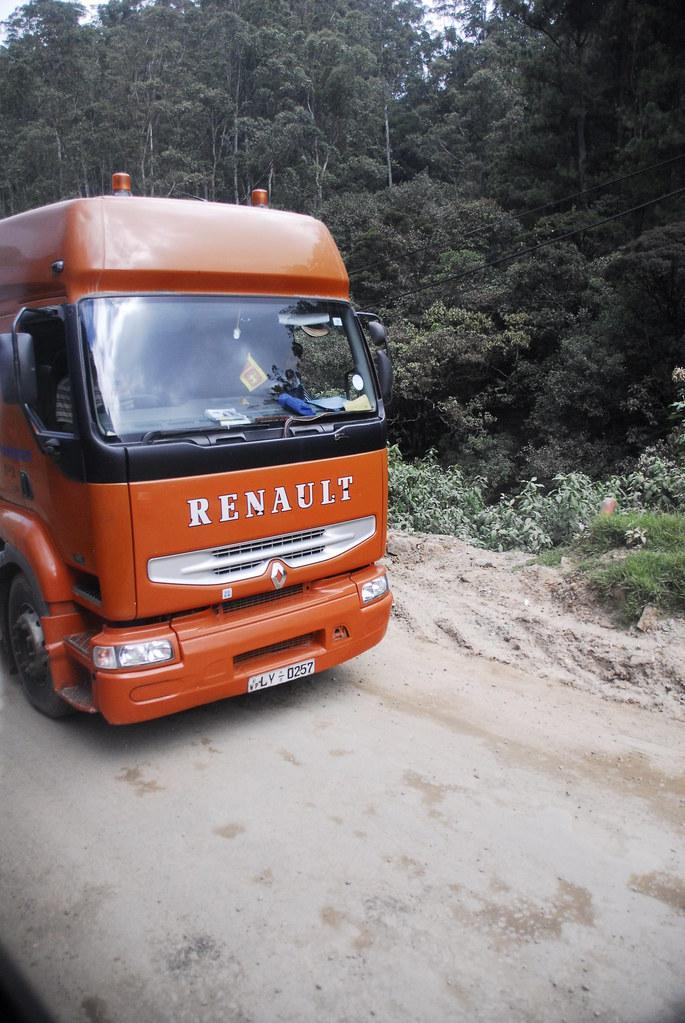truck: (2, 172, 392, 727)
